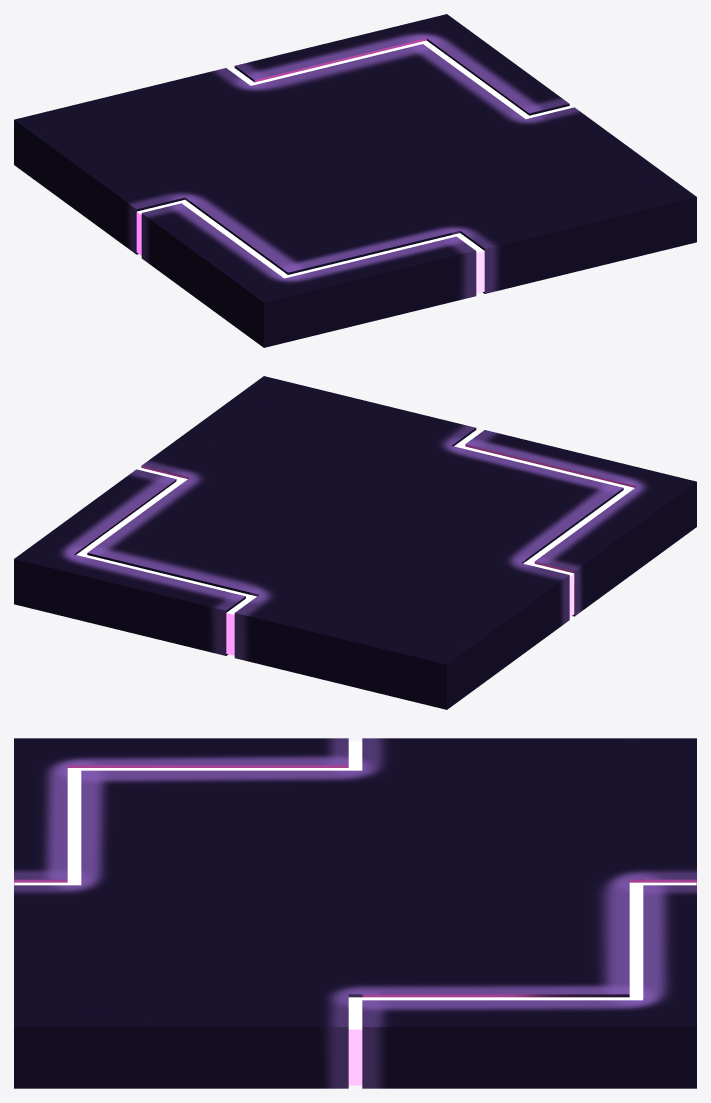
The model's file is Cyber Floor 1.glb.
The picture shows the model from 3 angles, top to bottom: view 1: azimuth 30°, elevation 25°; view 2: azimuth 150°, elevation 25°; view 3: azimuth 270°, elevation 25°; orthographic projection. The views are drawn at different scales.
Parts seen in each view (by area): view 1: polySurface12, pCube55; view 2: polySurface12, pCube55; view 3: polySurface12, pCube55.
Boxes of the visible parts, x1,y1,x2,y2 form: polySurface12: [14, 14, 696, 347]; pCube55: [136, 40, 571, 293]; polySurface12: [14, 376, 696, 709]; pCube55: [76, 430, 634, 655]; polySurface12: [14, 738, 696, 1088]; pCube55: [14, 741, 696, 1085].
Size of the model in its own units: 1 by 0.1 by 1.
2 materials, 1 textured.
